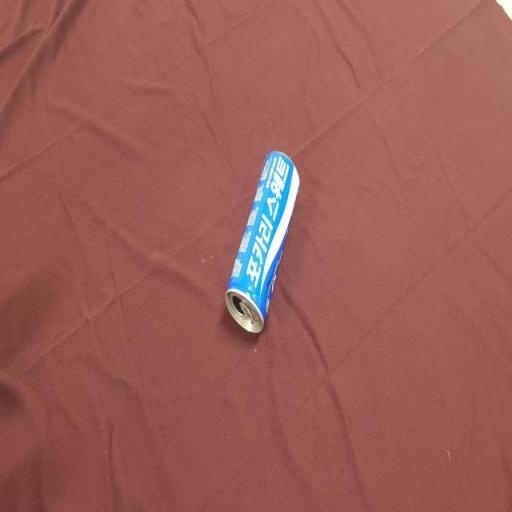metal: (210, 137, 312, 353)
